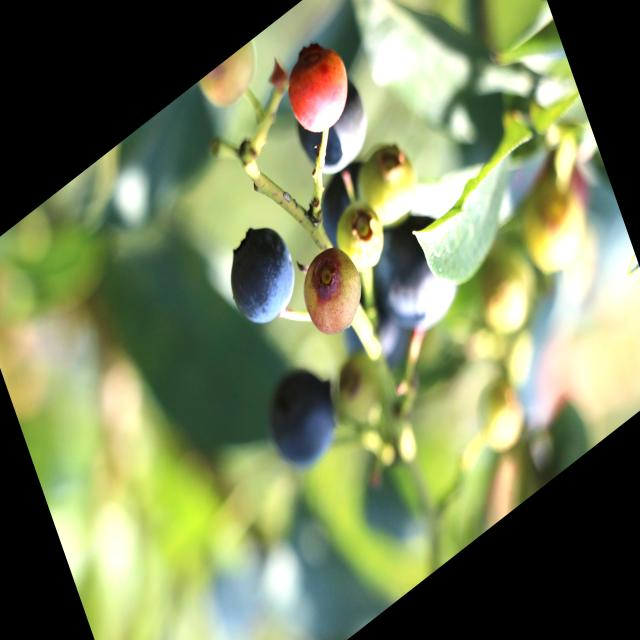blueberry: (368, 202, 464, 348), (216, 204, 309, 341), (262, 356, 346, 480), (296, 75, 377, 187), (345, 280, 413, 390), (308, 157, 379, 252)
blueberry-halfripe: (271, 24, 362, 153)
blueberry-unripe: (295, 235, 372, 350), (357, 134, 423, 236), (332, 197, 392, 285)
